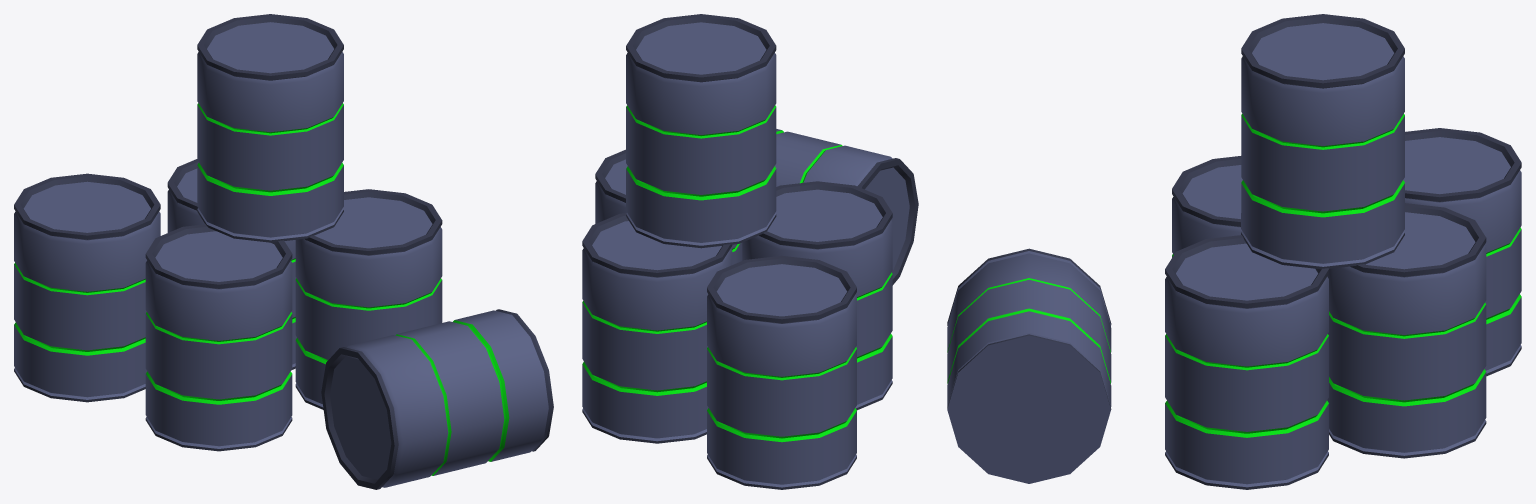
Rendered from barr.fbx.
The picture shows the model from 3 angles, left to right: view 1: azimuth 30°, elevation 25°; view 2: azimuth 150°, elevation 25°; view 3: azimuth 270°, elevation 25°; orthographic projection. The views are drawn at different scales.
Parts seen in each view (by area): view 1: Cylinder.023; view 2: Cylinder.023; view 3: Cylinder.023.
Part boxes in pixels (x1,y1,x2,y2): Cylinder.023: (14,14,553,489); Cylinder.023: (582,14,918,489); Cylinder.023: (947,14,1521,489).
Bounding box in the file's own units: 147 × 145 × 203.
